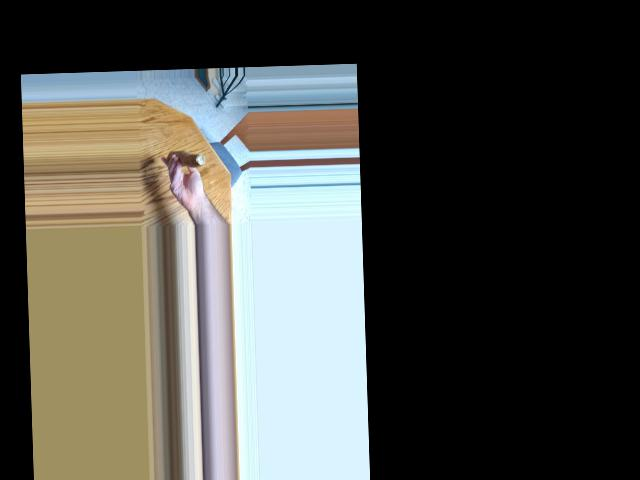sweet_potato: (166, 149, 201, 163)
